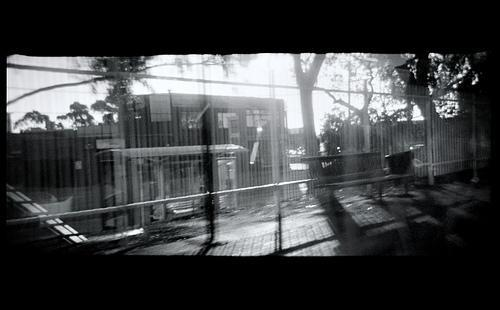car: (410, 144, 426, 155)
